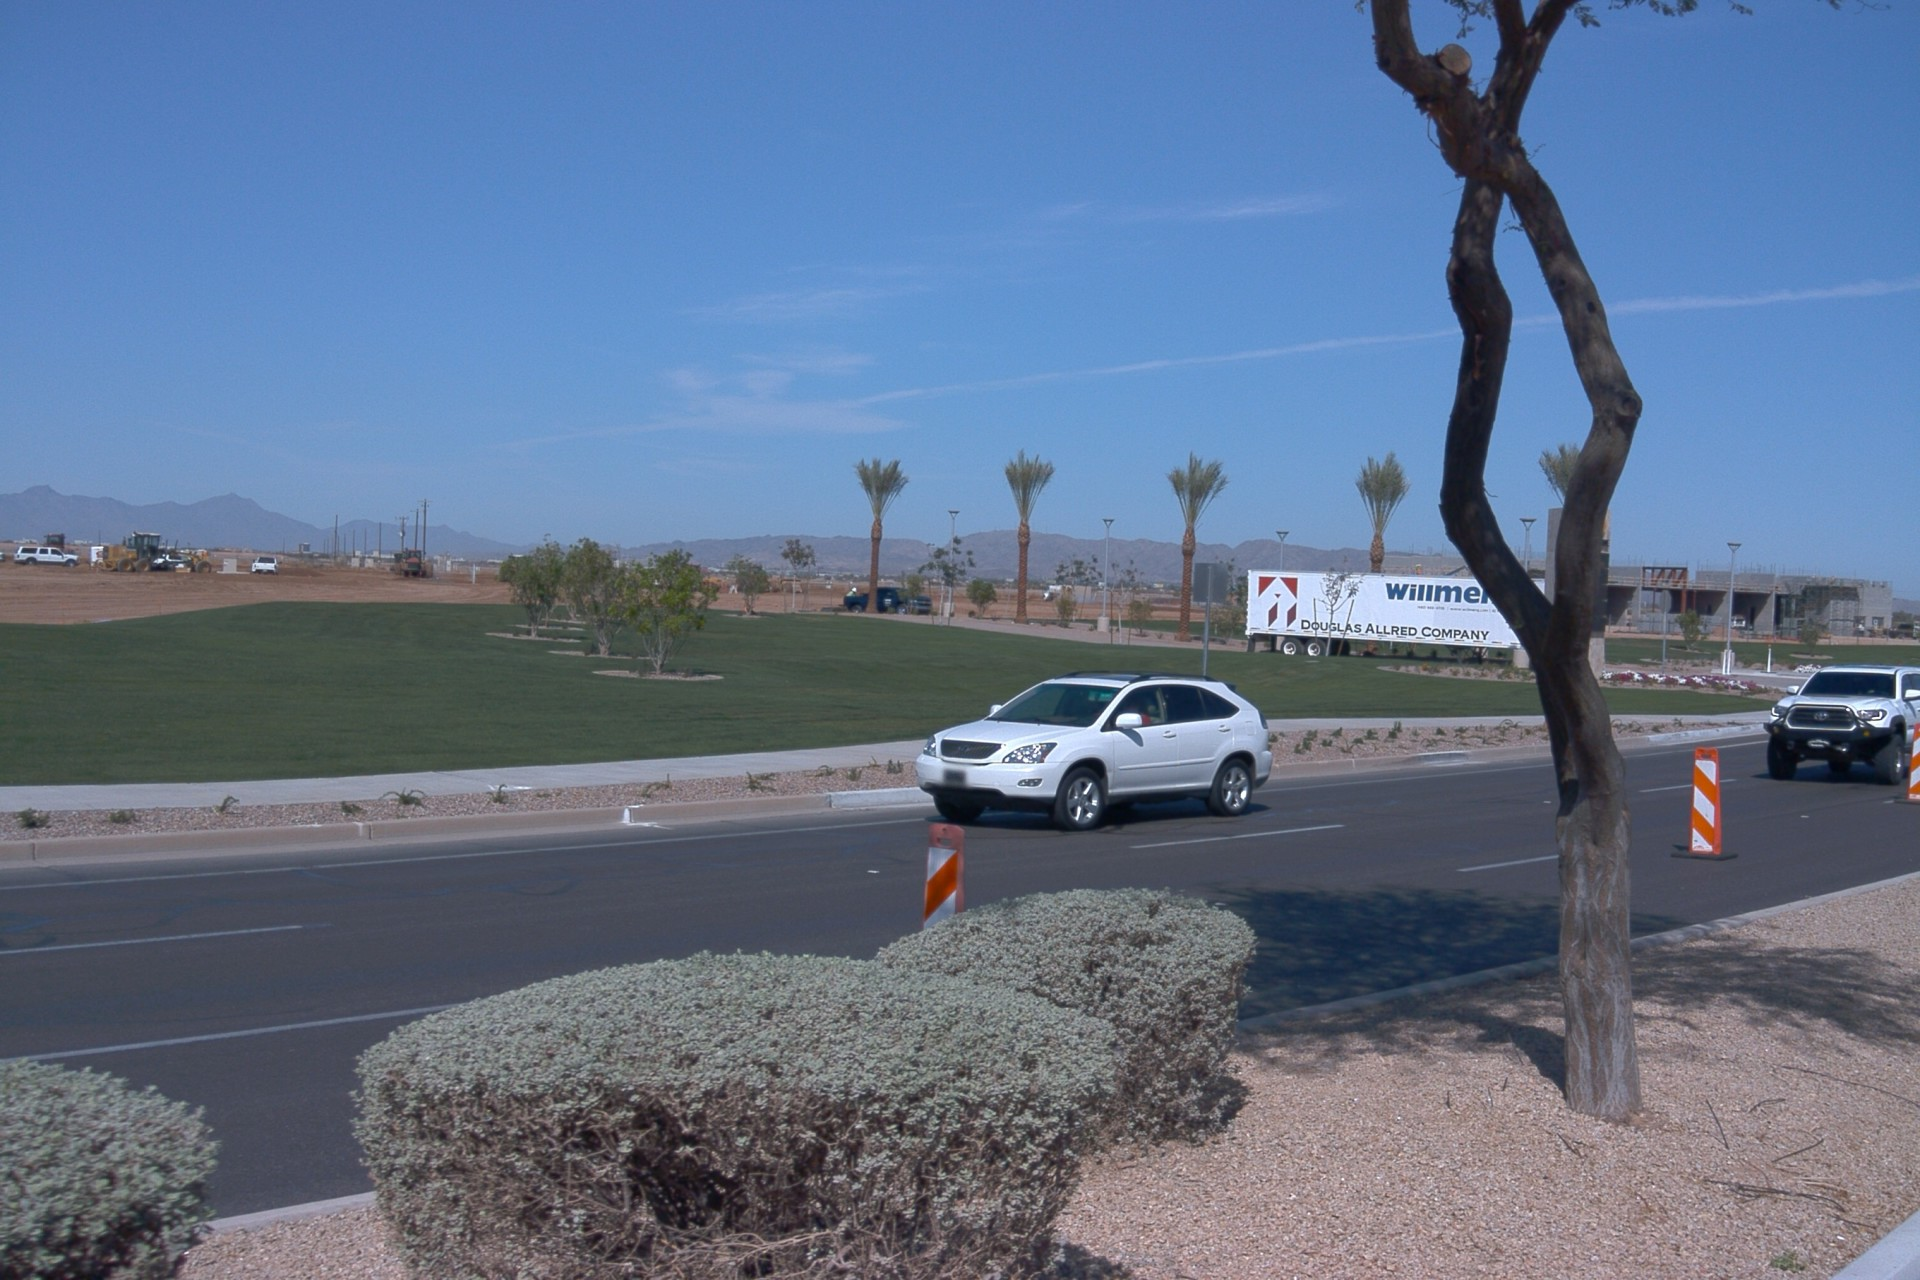TYPE_PEDESTRIAN: (845, 586, 858, 597)
TYPE_VEHICLE: (913, 670, 1271, 835), (1248, 568, 1550, 663), (1764, 665, 1920, 785), (73, 523, 211, 573), (841, 583, 935, 615), (17, 545, 83, 567), (394, 548, 436, 581), (1036, 578, 1077, 599), (248, 556, 284, 573), (1443, 565, 1474, 579), (388, 554, 407, 575), (88, 545, 104, 567), (0, 550, 6, 564), (657, 580, 661, 584)
